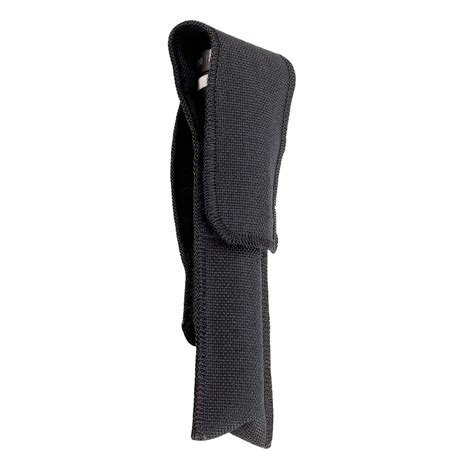nylon: (168, 21, 297, 451)
